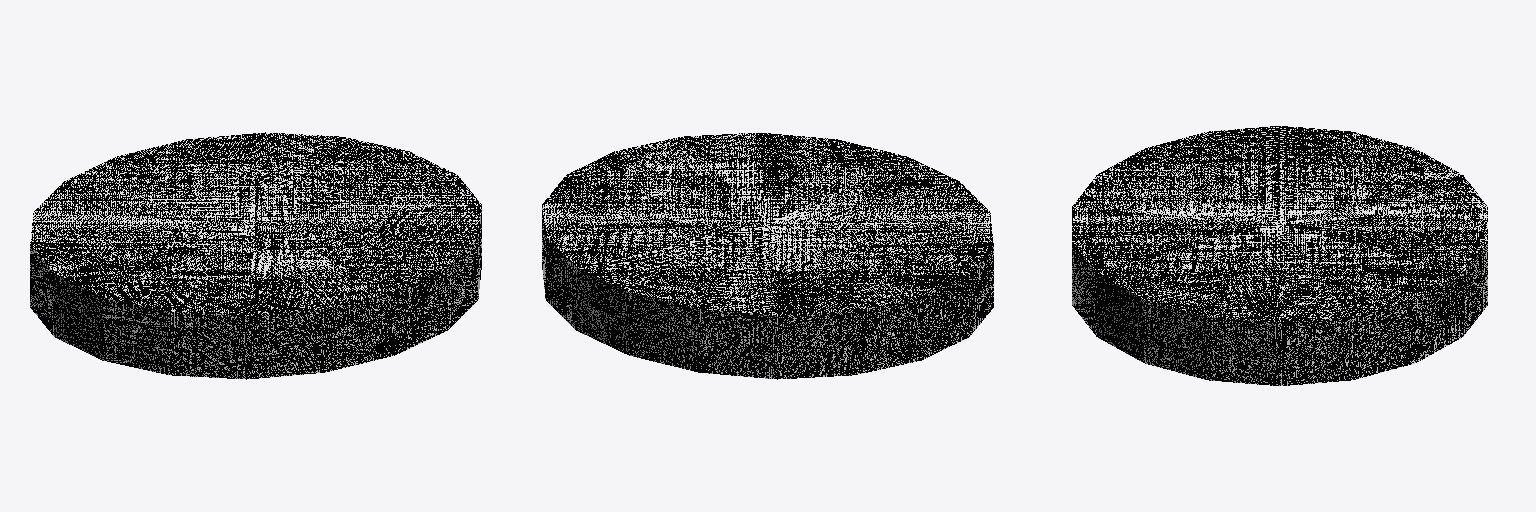
File: original-4.obj
3 views of the same model, side by side, from view 1: azimuth 30°, elevation 25°; view 2: azimuth 150°, elevation 25°; view 3: azimuth 270°, elevation 25° (orthographic).
Parts seen in each view (by area): view 1: mesh3/mesh3-geometry#mesh3-geometry; view 2: mesh3/mesh3-geometry#mesh3-geometry; view 3: mesh3/mesh3-geometry#mesh3-geometry.
Boxes of the visible parts, x1=… form: mesh3/mesh3-geometry#mesh3-geometry: x1=30, y1=132, x2=481, y2=379; mesh3/mesh3-geometry#mesh3-geometry: x1=542, y1=132, x2=993, y2=379; mesh3/mesh3-geometry#mesh3-geometry: x1=1072, y1=126, x2=1487, y2=385.
Size of the model in its own units: 0.0644 by 0.0097 by 0.0576.